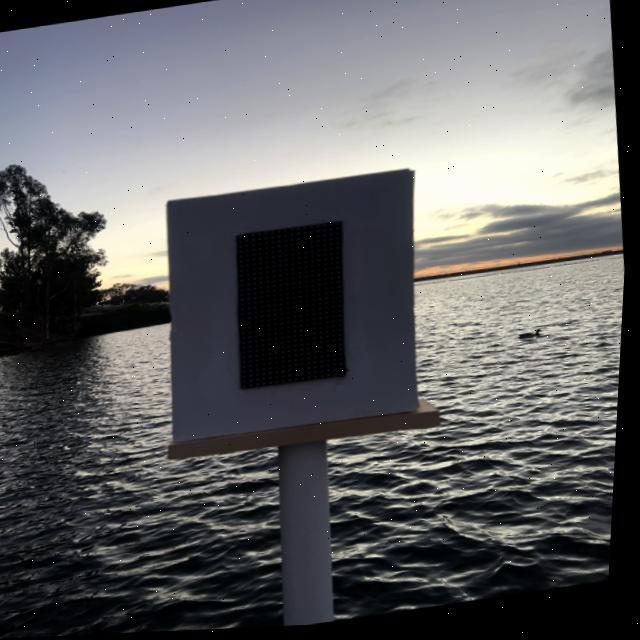led: (180, 191, 400, 434)
